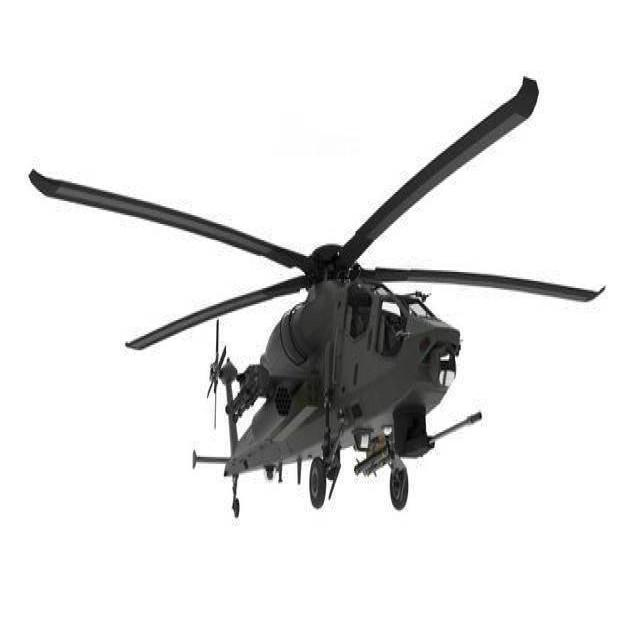MIL_HELO: (38, 64, 613, 525)
